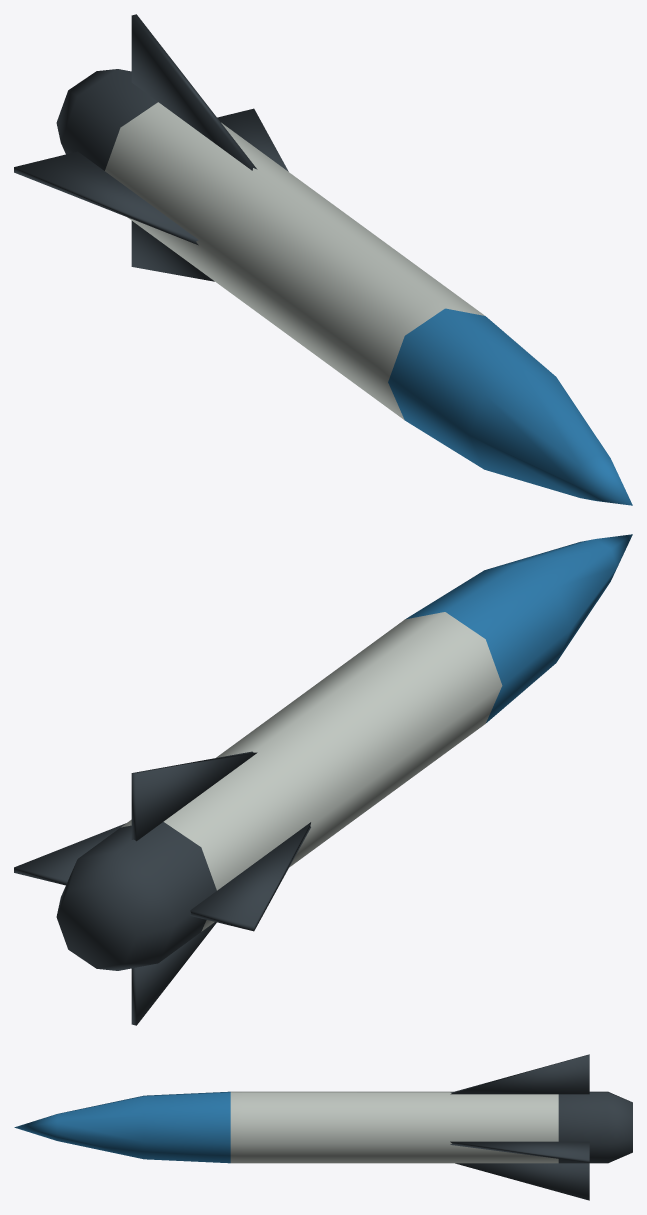
Rendered from missile_interceptor_projectile_game.glb.
The picture shows the model from 3 angles, top to bottom: view 1: azimuth 30°, elevation 25°; view 2: azimuth 150°, elevation 25°; view 3: azimuth 270°, elevation 25°; orthographic projection. The views are drawn at different scales.
Parts seen in each view (by area): view 1: AMMO_MESH.058; view 2: AMMO_MESH.058; view 3: AMMO_MESH.058.
Boxes of the visible parts, bbox=[...] form: AMMO_MESH.058: bbox=[14, 14, 632, 505]; AMMO_MESH.058: bbox=[14, 534, 632, 1025]; AMMO_MESH.058: bbox=[14, 1054, 632, 1200].
Size of the model in its own units: 0.672 by 0.672 by 2.6.
